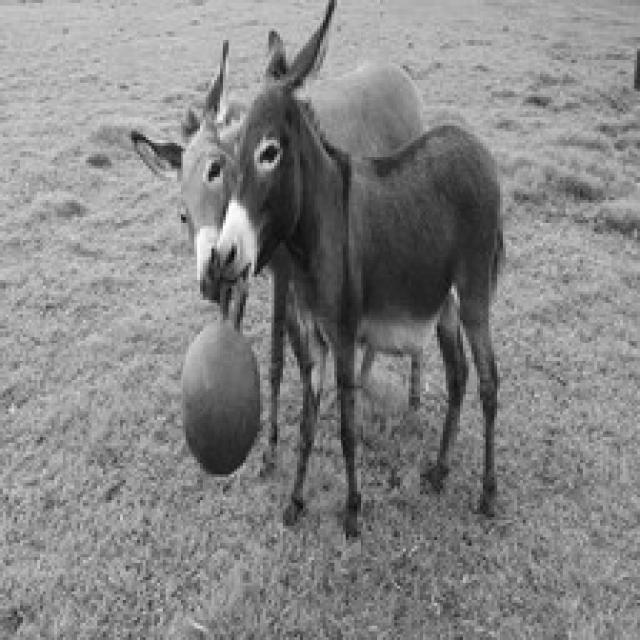Donkey: (208, 0, 503, 540), (110, 37, 422, 481)
